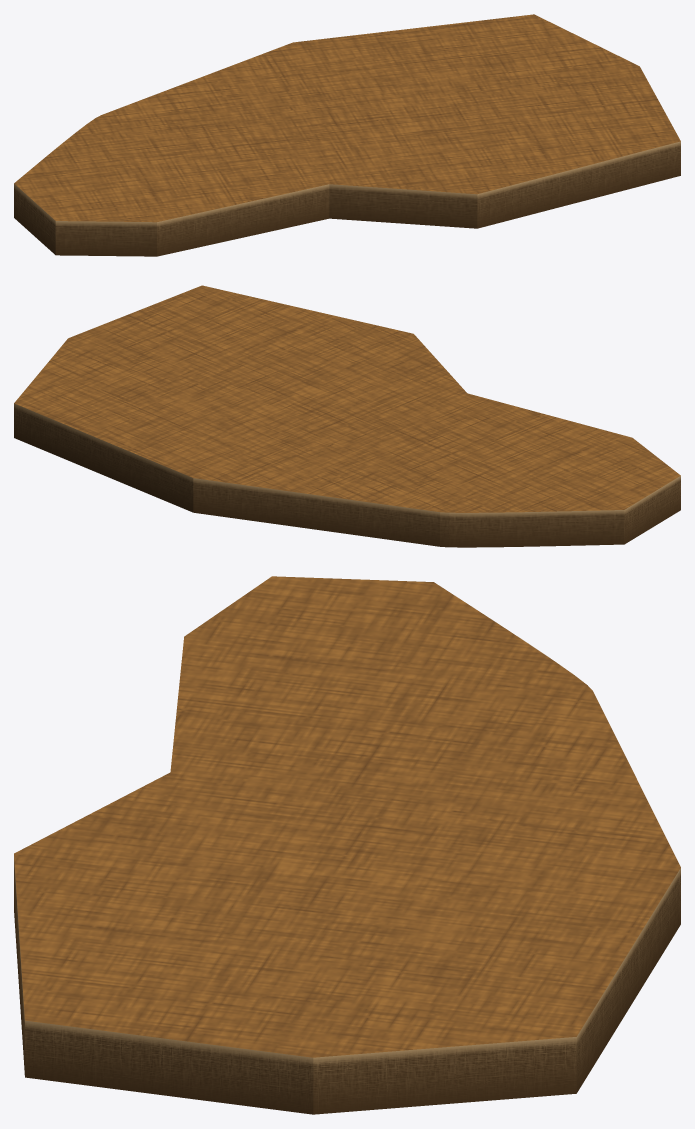
File: Terrain02_C.FBX
The picture shows the model from 3 angles, top to bottom: view 1: azimuth 30°, elevation 25°; view 2: azimuth 150°, elevation 25°; view 3: azimuth 270°, elevation 25°; orthographic projection. The views are drawn at different scales.
Parts seen in each view (by area): view 1: Terrain02_C; view 2: Terrain02_C; view 3: Terrain02_C.
Boxes of the visible parts, x1=… form: Terrain02_C: x1=14, y1=14, x2=680, y2=256; Terrain02_C: x1=14, y1=285, x2=680, y2=547; Terrain02_C: x1=14, y1=576, x2=680, y2=1114.
Size of the model in its own units: 917 by 50.55 by 537.
1 material, 1 textured.
